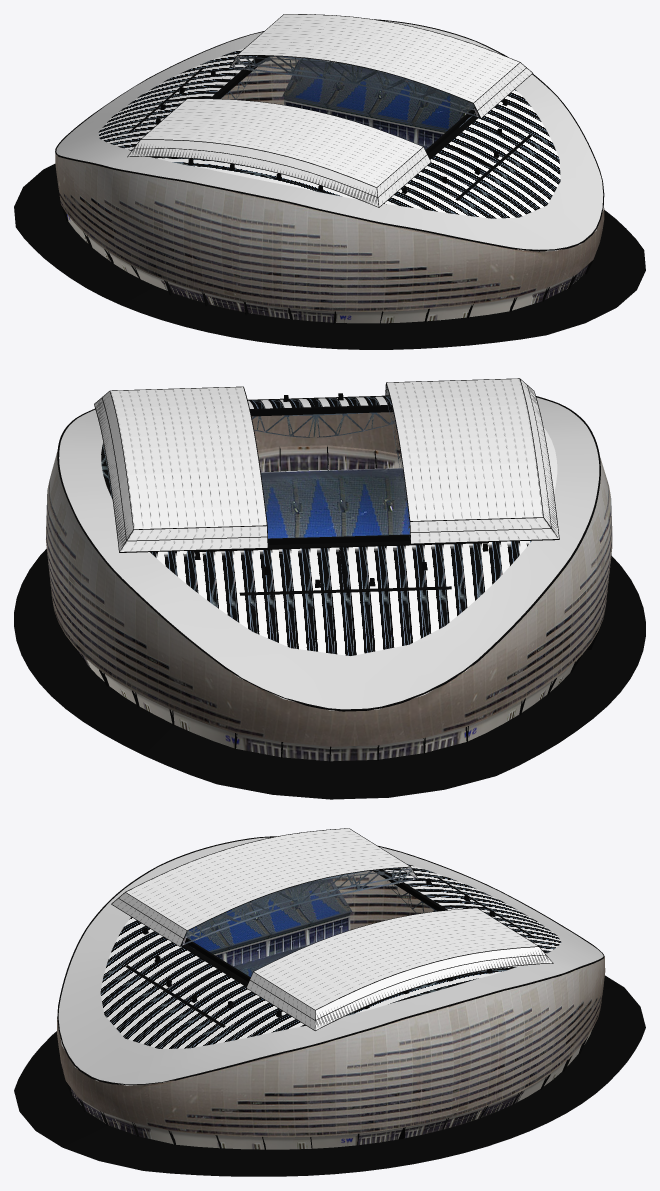
3 renders of one model, top to bottom at view 1: azimuth 30°, elevation 25°; view 2: azimuth 150°, elevation 25°; view 3: azimuth 270°, elevation 25°, orthographic. The views are drawn at different scales.
Visible parts, largest first — view 1: Plane03, Object_Material #31_0, Object01_Material #62_0, Object03_Material #62_0, Balka01_Material #58_0, Shape006, Shape01_Material #31_0, Shape03, Shape05_Material #31_0, Object02_Material #31_0, Shape04, Box02; view 2: Plane03, Object_Material #31_0, Object03_Material #62_0, Object01_Material #62_0, Shape03, Shape006, Shape05_Material #31_0, Shape01_Material #31_0, Object02_Material #31_0, Object04_Material #58_0, Shape04; view 3: Plane03, Object_Material #31_0, Object03_Material #62_0, Object01_Material #62_0, Balka_Material #58_0, Shape006, Shape05_Material #31_0, Shape03, Shape01_Material #31_0, Object02_Material #31_0, Shape04.
Boxes of the visible parts, box(x1,y1,x2,y2) form: Plane03: box(55, 21, 604, 323); Object_Material #31_0: box(14, 164, 645, 349); Object01_Material #62_0: box(128, 99, 430, 206); Object03_Material #62_0: box(230, 14, 532, 117); Balka01_Material #58_0: box(232, 55, 479, 117); Shape006: box(55, 19, 604, 251); Shape01_Material #31_0: box(127, 98, 430, 207); Shape03: box(210, 55, 479, 159); Shape05_Material #31_0: box(229, 14, 532, 118); Object02_Material #31_0: box(127, 68, 531, 200); Shape04: box(60, 204, 599, 324); Box02: box(155, 70, 508, 193); Plane03: box(46, 396, 612, 761); Object_Material #31_0: box(14, 549, 645, 799); Object03_Material #62_0: box(94, 387, 267, 551); Object01_Material #62_0: box(386, 379, 558, 543); Shape03: box(194, 405, 488, 552); Shape006: box(57, 396, 600, 711); Shape05_Material #31_0: box(94, 386, 268, 552); Shape01_Material #31_0: box(385, 378, 559, 544); Object02_Material #31_0: box(239, 395, 451, 595); Object04_Material #58_0: box(252, 412, 395, 437); Shape04: box(51, 446, 606, 762); Plane03: box(56, 837, 605, 1149); Object_Material #31_0: box(14, 975, 645, 1176); Object03_Material #62_0: box(246, 908, 552, 1030); Object01_Material #62_0: box(112, 828, 417, 946); Balka_Material #58_0: box(182, 867, 415, 945); Shape006: box(57, 836, 604, 1084); Shape05_Material #31_0: box(246, 908, 553, 1030); Shape03: box(181, 869, 447, 986); Shape01_Material #31_0: box(111, 828, 418, 946); Object02_Material #31_0: box(125, 877, 536, 1027); Shape04: box(60, 1007, 601, 1150).
Bounding box in the file's own units: 3.39 × 1.04 × 3.83.
Materials: 6 (4 with a texture image).
